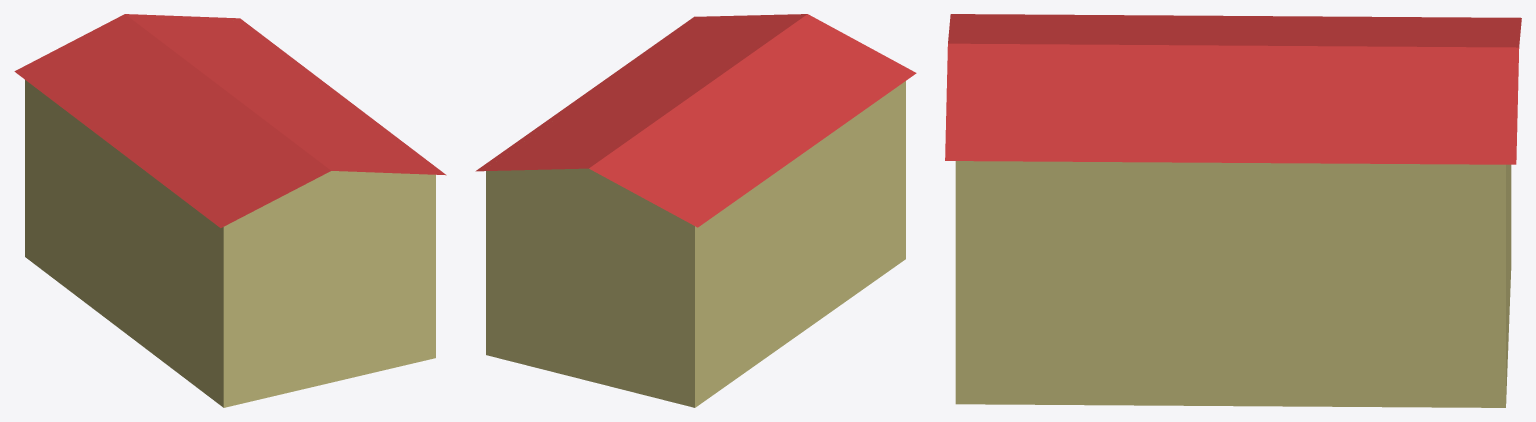
3 views of the same model, side by side, from view 1: azimuth 30°, elevation 25°; view 2: azimuth 150°, elevation 25°; view 3: azimuth 270°, elevation 25° (orthographic). The views are drawn at different scales.
Size of the model in its own units: 8.46 by 13.67 by 7.58.
